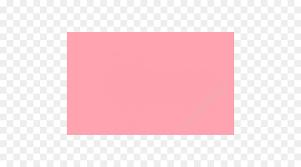pink_zone: (64, 29, 237, 137)
